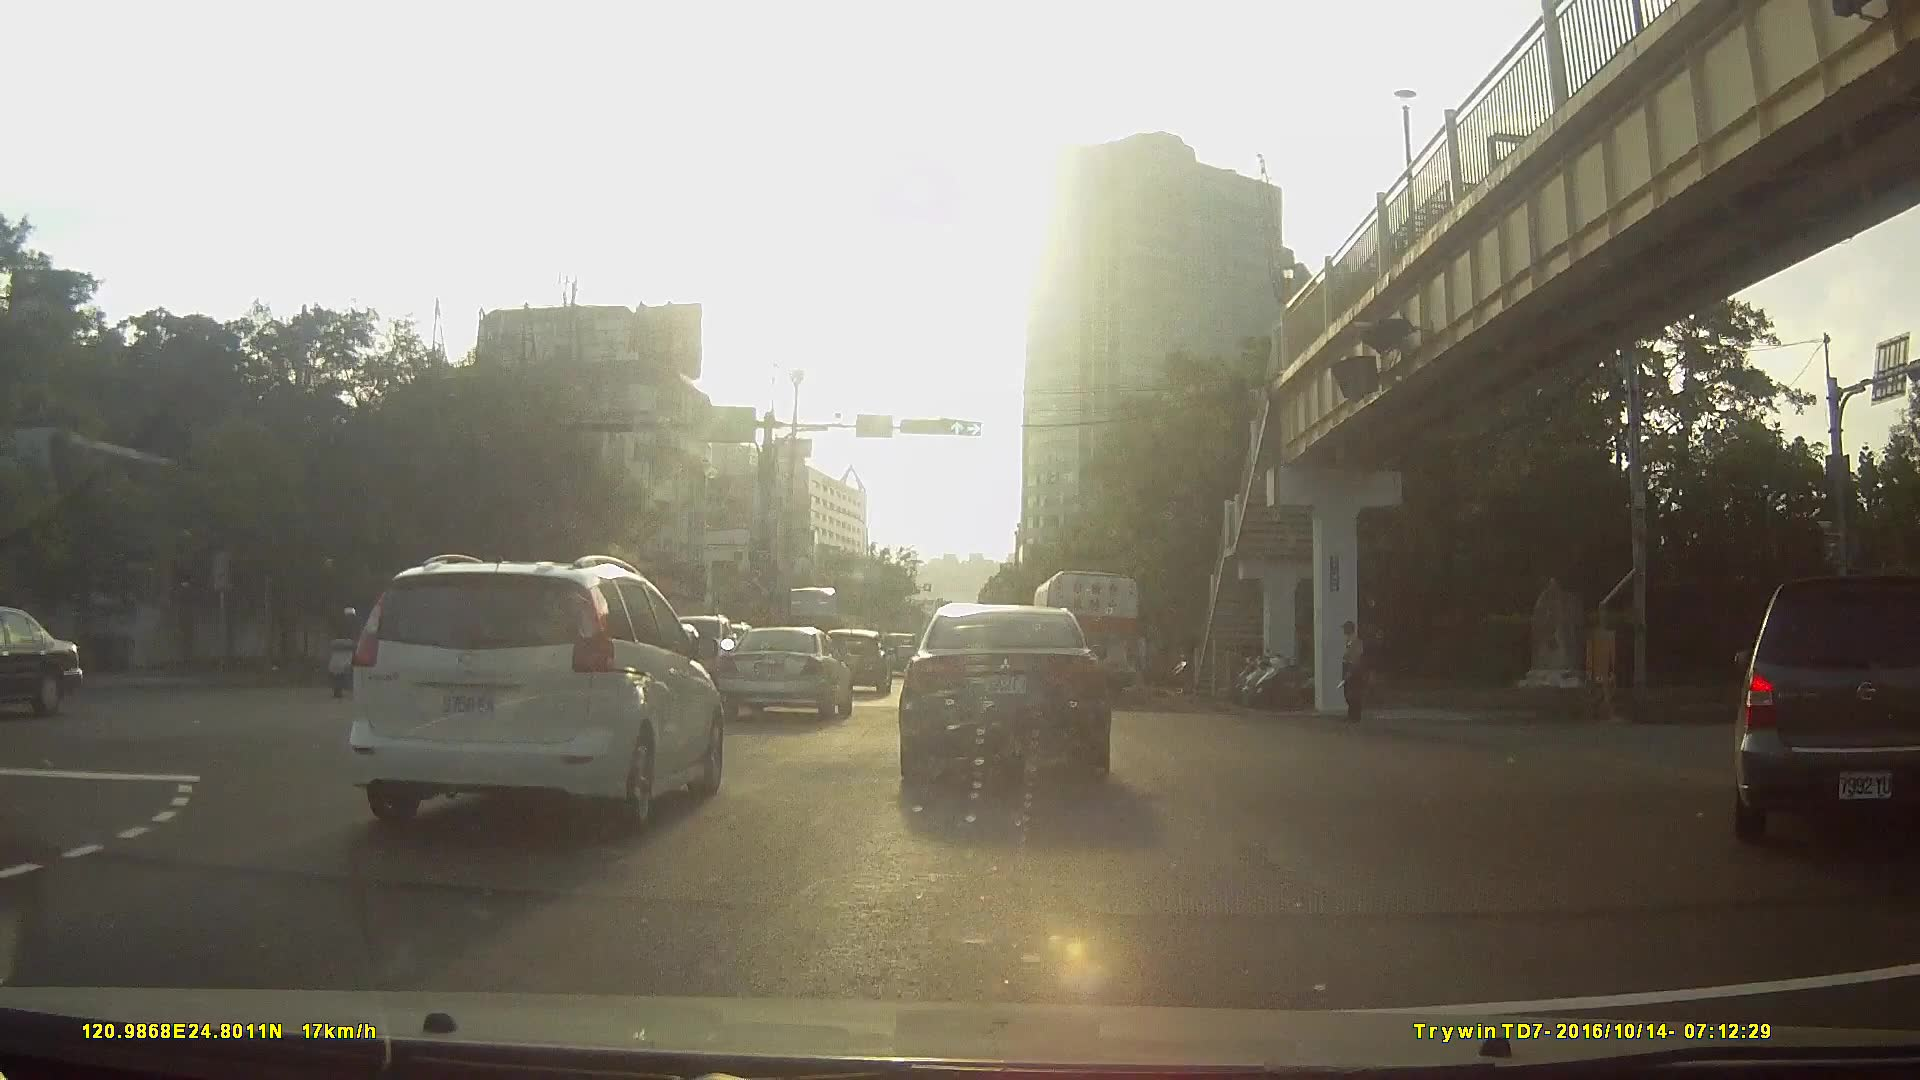pedestrian: (1335, 614, 1375, 727)
rider: (324, 603, 372, 695)
vehicle: (345, 550, 723, 834), (1733, 570, 1920, 848), (899, 600, 1112, 795), (1029, 570, 1137, 704), (715, 625, 853, 722), (1, 614, 97, 720), (812, 626, 886, 696)
